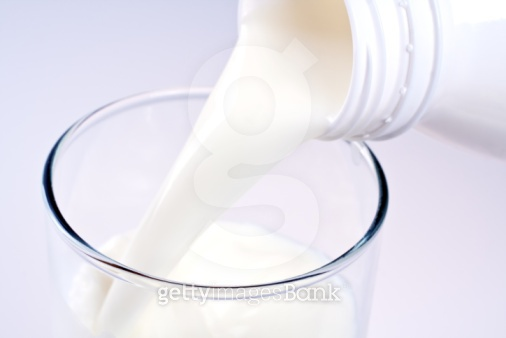glass of milk: (41, 86, 398, 338)
